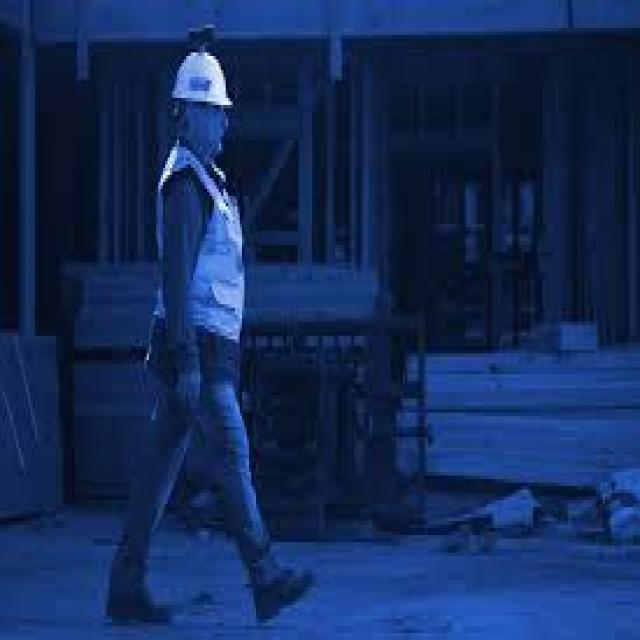Reflective-Jacket: (147, 147, 245, 356)
Safety-Helmet: (168, 46, 238, 116)
